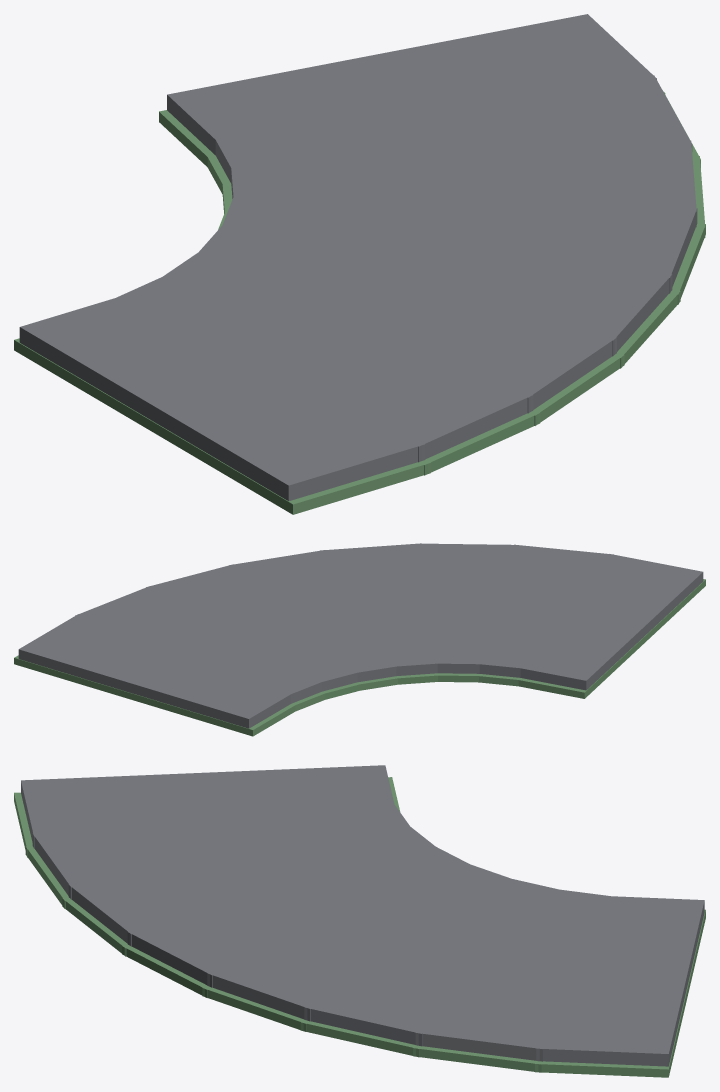
File: golf-course-and-clubhouse-cart-path-curve-53f4b10a__33472.glb
3 views of the same model, one above another, from view 1: azimuth 30°, elevation 25°; view 2: azimuth 150°, elevation 25°; view 3: azimuth 270°, elevation 25° (orthographic). The views are drawn at different scales.
Visible parts, largest first — view 1: cart-path-curve; view 2: cart-path-curve; view 3: cart-path-curve.
Boxes of the visible parts, x1,y1,x2,y2 form: cart-path-curve: (14, 14, 705, 514); cart-path-curve: (14, 543, 705, 736); cart-path-curve: (14, 765, 705, 1077).
Size of the model in its own units: 3.02 by 0.1 by 3.02.
